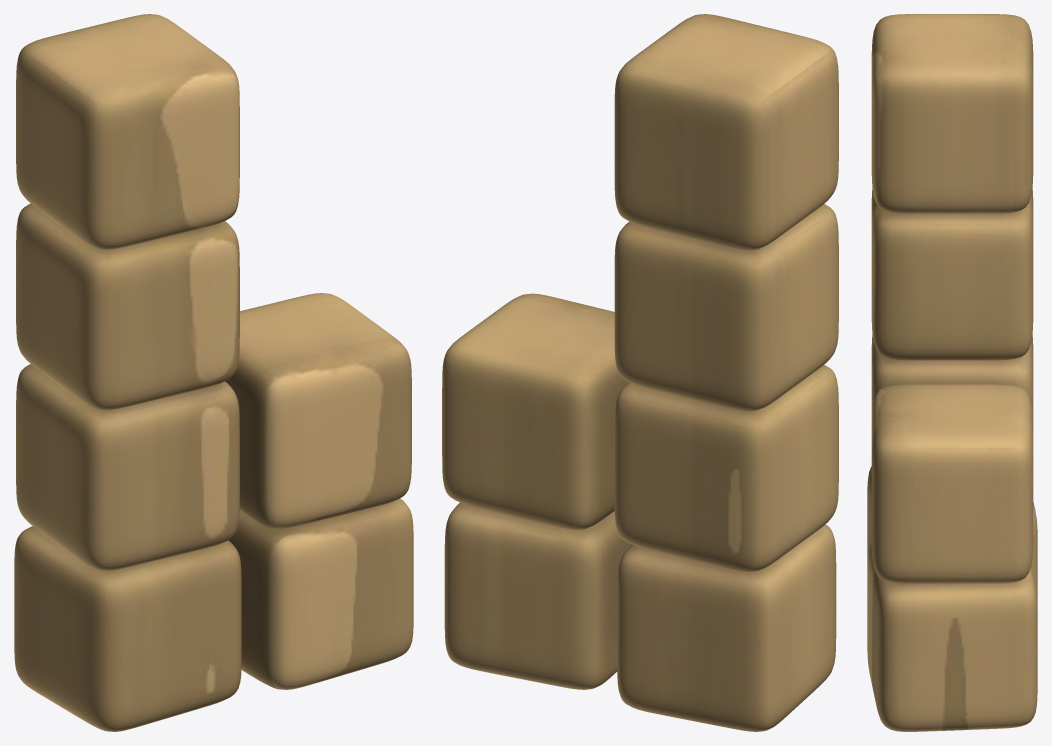
The model's file is natural-tower.glb.
The picture shows the model from 3 angles, left to right: view 1: azimuth 30°, elevation 25°; view 2: azimuth 150°, elevation 25°; view 3: azimuth 270°, elevation 25°; orthographic projection. The views are drawn at different scales.
Visible parts, largest first — view 1: block_wood; view 2: block_wood; view 3: block_wood.
Part boxes in pixels (x1=…): block_wood: x1=14, y1=14, x2=413, y2=731; block_wood: x1=442, y1=14, x2=838, y2=731; block_wood: x1=867, y1=14, x2=1037, y2=731.
Size of the model in its own units: 0.1088 by 0.2 by 0.0527.
Materials: 1 (1 with a texture image).
